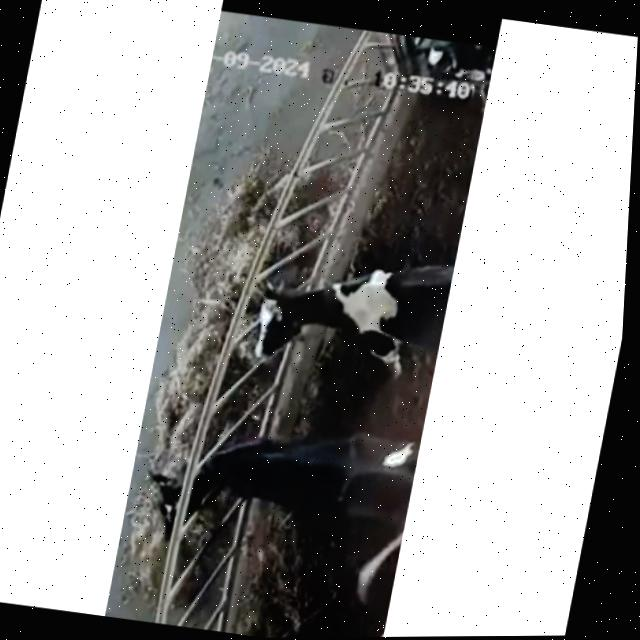eat: (196, 265, 362, 378), (127, 422, 279, 545)
